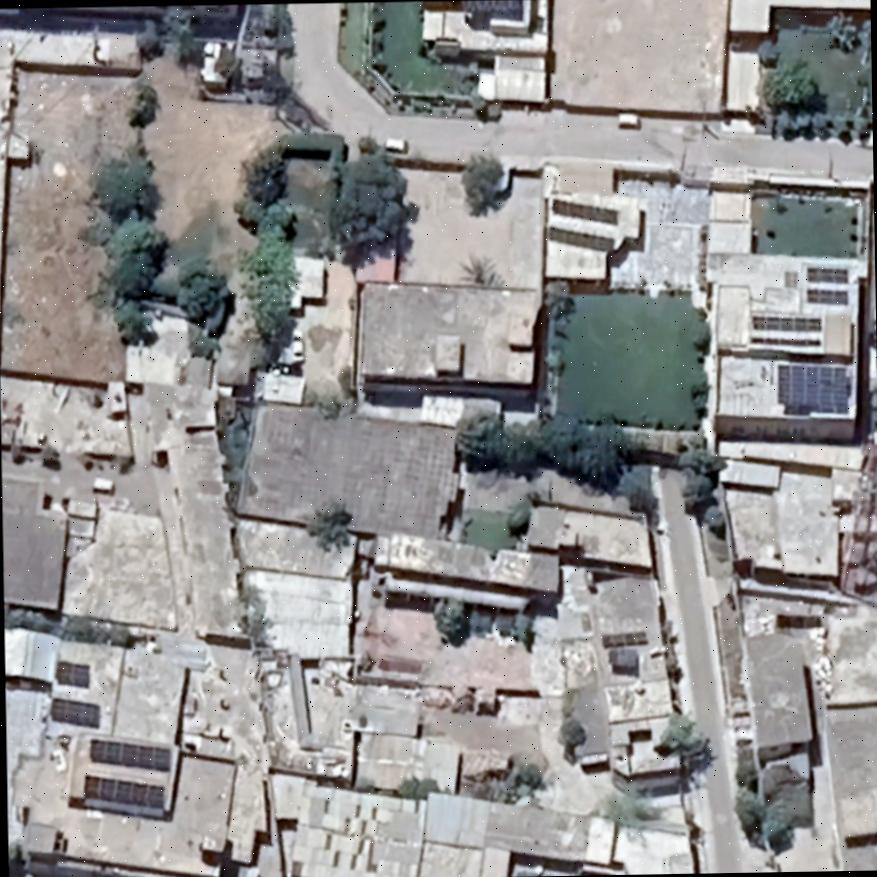Solarpanel: (772, 356, 856, 412), (81, 772, 171, 816), (84, 737, 175, 778), (539, 223, 620, 258), (798, 262, 853, 307), (543, 197, 621, 227), (42, 697, 104, 733), (750, 310, 825, 333), (48, 655, 93, 691), (590, 626, 654, 650), (462, 2, 526, 17)
